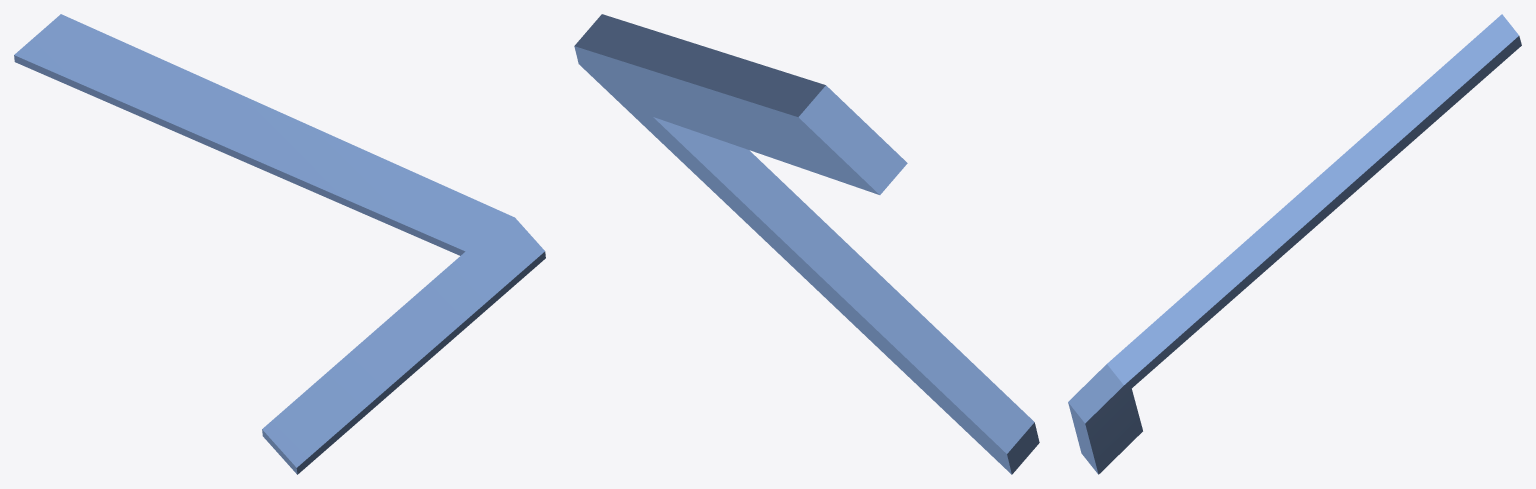
File: New_Number_7.gltf
3 views of the same model, side by side, from view 1: azimuth 30°, elevation 25°; view 2: azimuth 150°, elevation 25°; view 3: azimuth 270°, elevation 25° (orthographic). The views are drawn at different scales.
Visible parts, largest first — view 1: Part 403; view 2: Part 403; view 3: Part 403.
Part boxes in pixels (left/top/right/bottom): Part 403: left=14, top=14, right=545, bottom=474; Part 403: left=574, top=14, right=1039, bottom=474; Part 403: left=1068, top=14, right=1521, bottom=474.
Size of the model in its own units: 0.00453 by 0.0043 by 0.0042.
